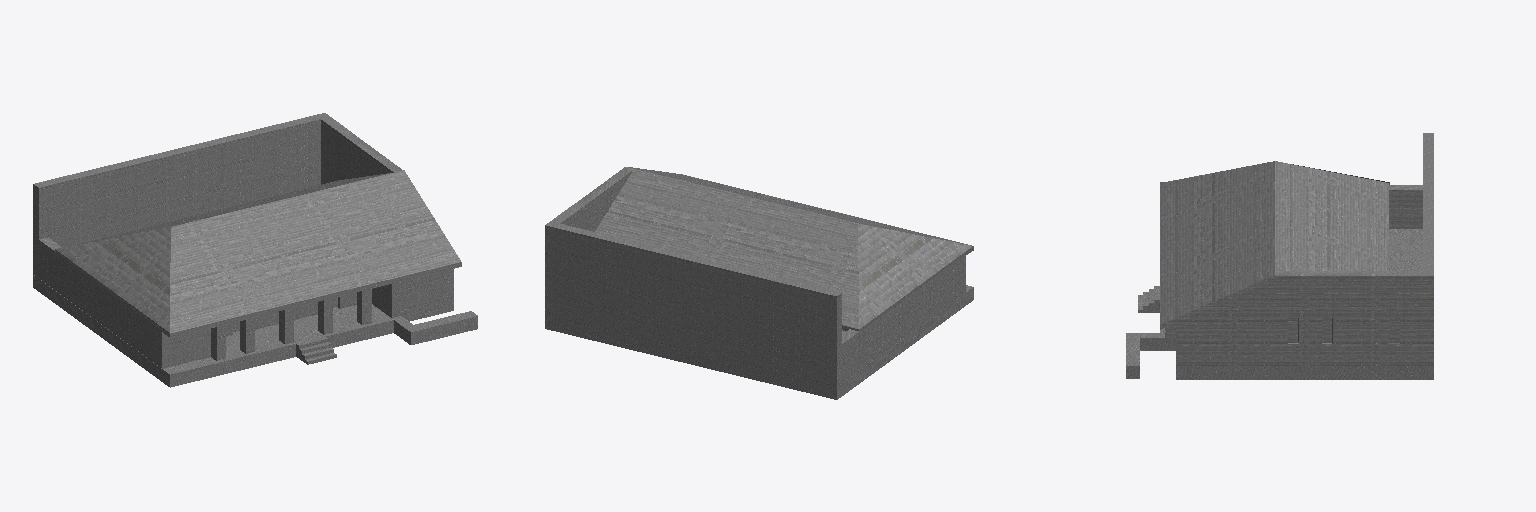
3 views of the same model, side by side, from view 1: azimuth 30°, elevation 25°; view 2: azimuth 150°, elevation 25°; view 3: azimuth 270°, elevation 25° (orthographic).
Visible parts, largest first — view 1: Plane001, Plane002; view 2: Plane001, Plane002; view 3: Plane001, Plane002.
Part boxes in pixels (left/top/right/bottom): Plane001: left=33, top=113, right=461, bottom=368; Plane002: left=33, top=275, right=477, bottom=387; Plane001: left=545, top=167, right=973, bottom=386; Plane002: left=545, top=285, right=973, bottom=399; Plane001: left=1160, top=133, right=1433, bottom=365; Plane002: left=1126, top=229, right=1433, bottom=379.
Bounding box in the file's own units: 323 × 110 × 294.
Materials: 1 (1 with a texture image).